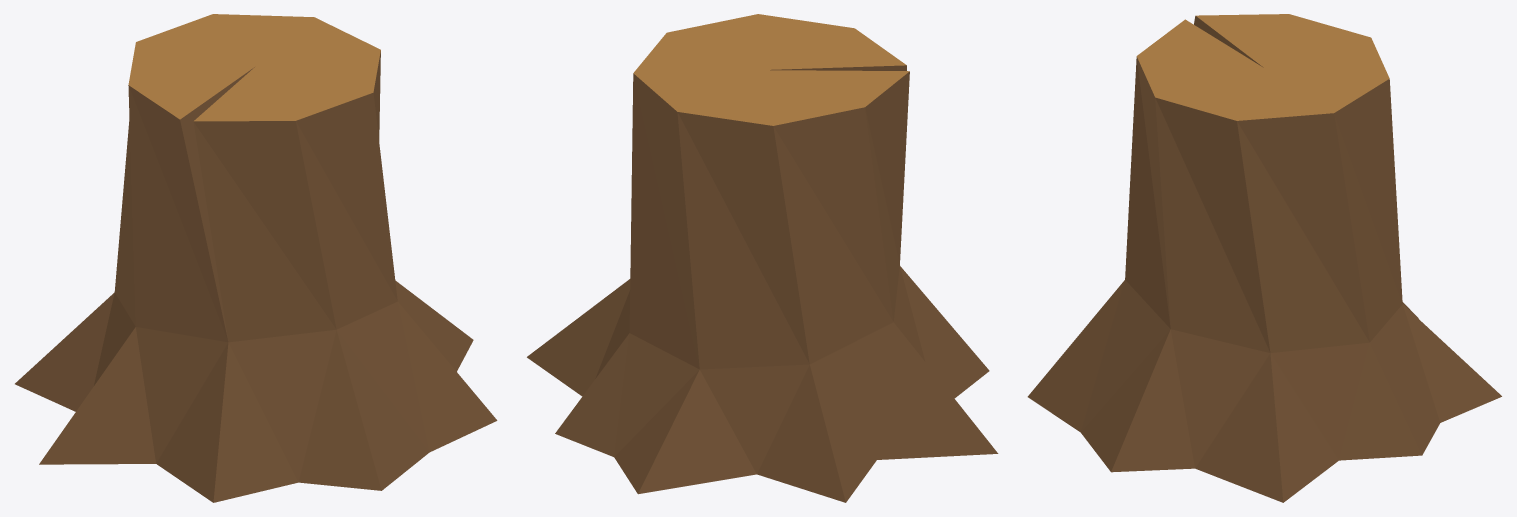
Rendered from stump.glb.
3 renders of one model, left to right at view 1: azimuth 30°, elevation 25°; view 2: azimuth 150°, elevation 25°; view 3: azimuth 270°, elevation 25°, orthographic. The views are drawn at different scales.
Visible parts, largest first — view 1: stump; view 2: stump; view 3: stump.
Boxes of the visible parts, left/top/right/bottom form: stump: left=15, top=14, right=497, bottom=502; stump: left=527, top=14, right=998, bottom=502; stump: left=1027, top=14, right=1501, bottom=502.
Bounding box in the file's own units: 1.06 × 0.7863 × 0.9914.
1 material, 1 textured.
